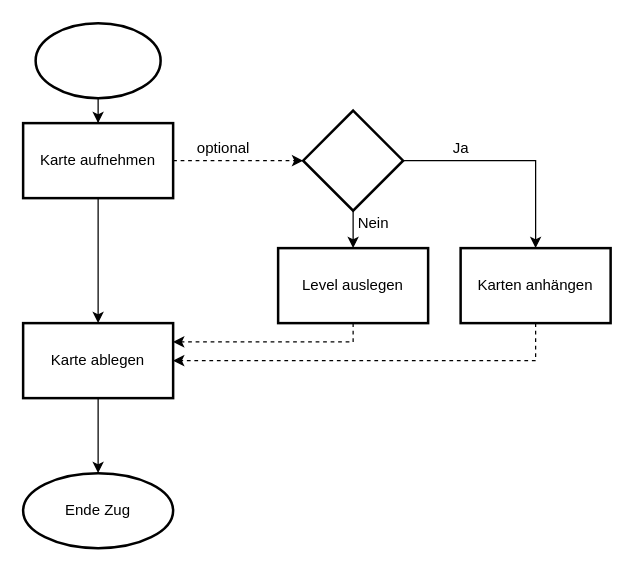
The diagram is 633 pixels wide and 570 high, and some of its shapes have lost their labels. Each missing label, with the box of its shape:
Hat ausgelegt?: (301, 109, 404, 211)
Start Zug: (34, 21, 161, 99)
